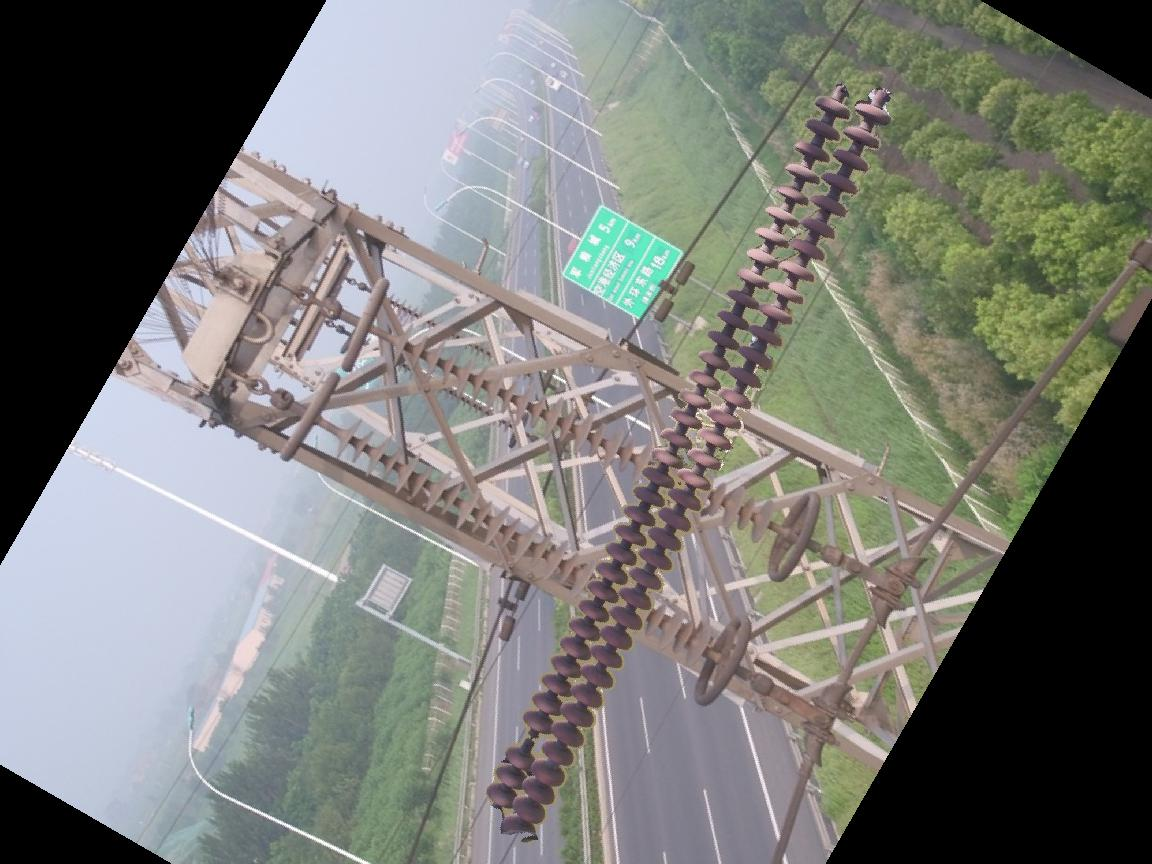insulator: (480, 90, 897, 837), (321, 414, 724, 671), (386, 326, 780, 549)
insulator_stringdrop: (502, 708, 558, 773)
